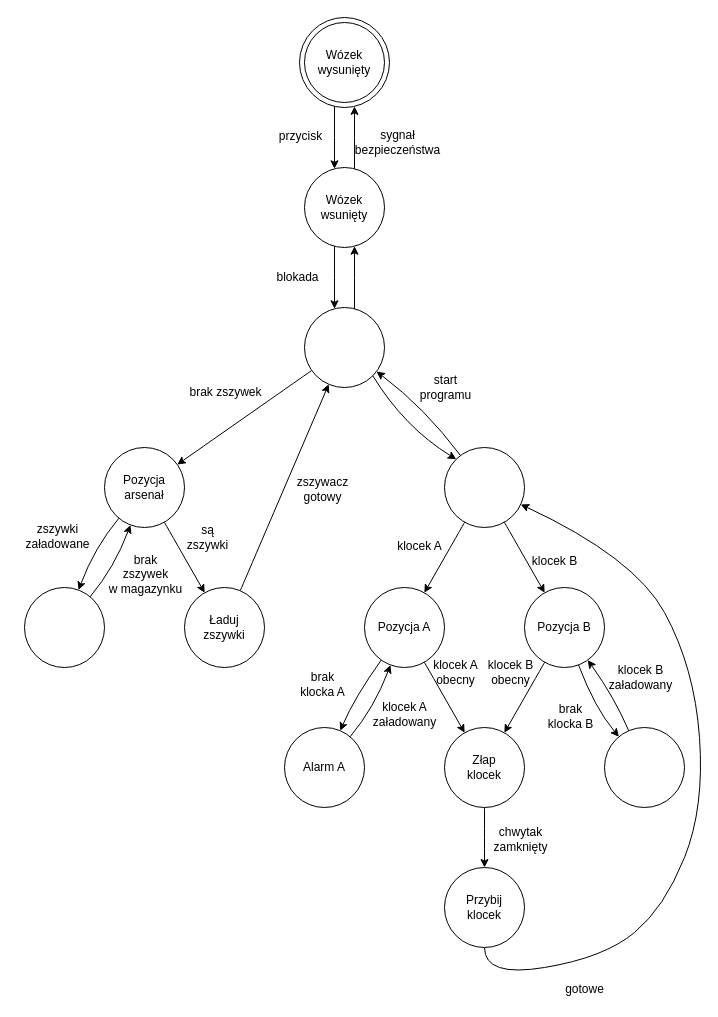
This 718x1017 diagram has some shape labels left out. The box of each missing label's shape, as (x1, y1, x2, y2) in pixels:
Alarm B: (604, 726, 684, 808)
Alarm zszywki: (24, 586, 104, 668)
Robot gotowy: (304, 306, 384, 388)
Robot pracuje: (444, 446, 524, 528)
